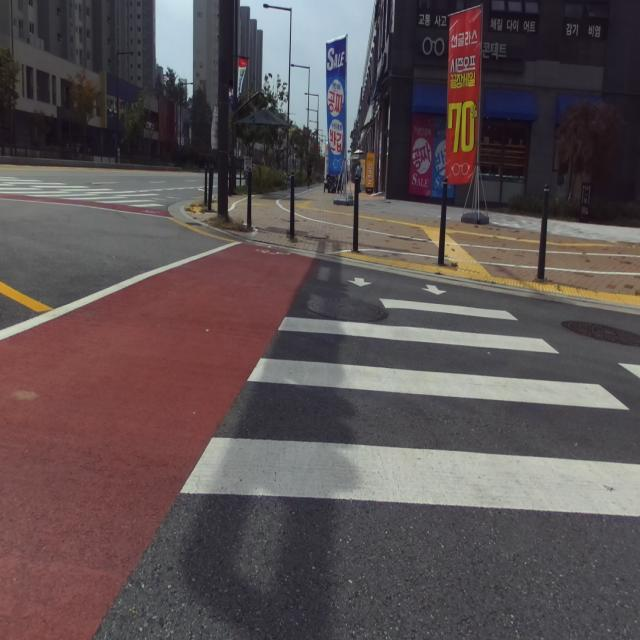횡단보도: (180, 278, 640, 516), (0, 175, 188, 213)
